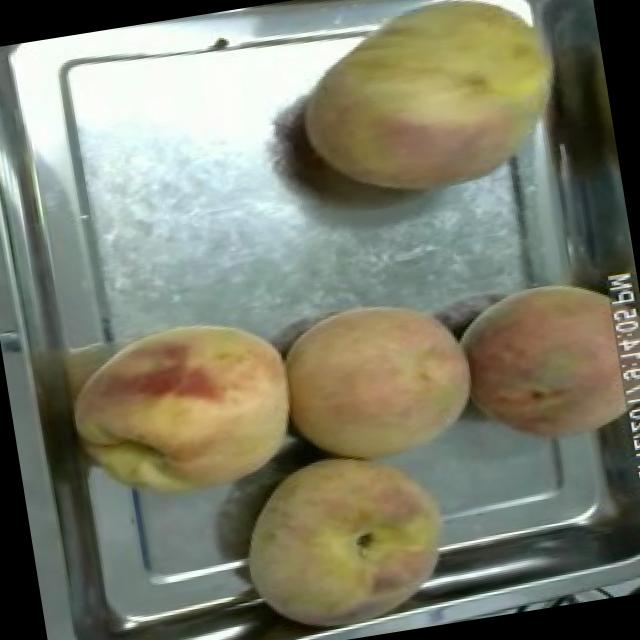Fruit: (274, 0, 591, 222), (54, 296, 316, 522), (222, 430, 472, 640), (263, 281, 490, 475), (444, 267, 630, 468)
